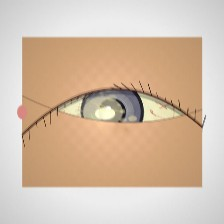corneal_ulcer: (70, 86, 135, 138)
